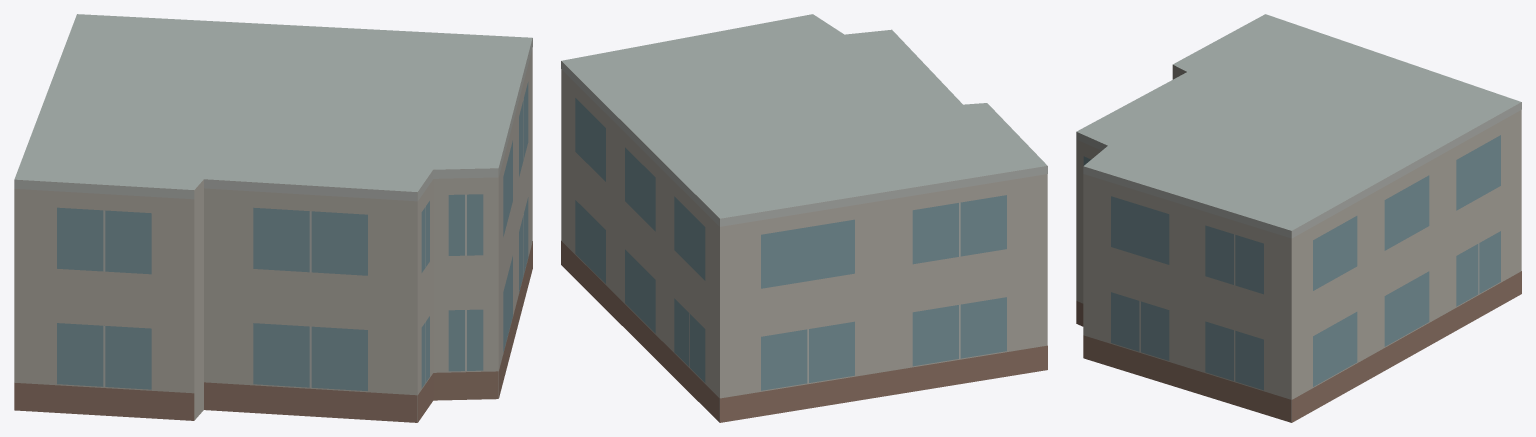
Rendered from survey-upis-32792409.glb.
3 views of the same model, side by side, from view 1: azimuth 30°, elevation 25°; view 2: azimuth 150°, elevation 25°; view 3: azimuth 270°, elevation 25° (orthographic). The views are drawn at different scales.
Parts seen in each view (by area): view 1: survey-upis-32792409.tmp; view 2: survey-upis-32792409.tmp; view 3: survey-upis-32792409.tmp.
Boxes of the visible parts, x1=… form: survey-upis-32792409.tmp: x1=14, y1=14, x2=532, y2=422; survey-upis-32792409.tmp: x1=561, y1=14, x2=1047, y2=422; survey-upis-32792409.tmp: x1=1076, y1=14, x2=1521, y2=422.
Size of the model in its own units: 14.79 by 6.1 by 12.84.
